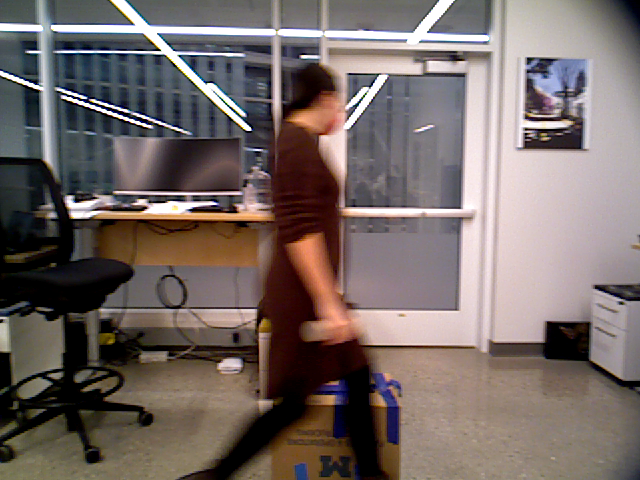painting3: (521, 56, 589, 150)
